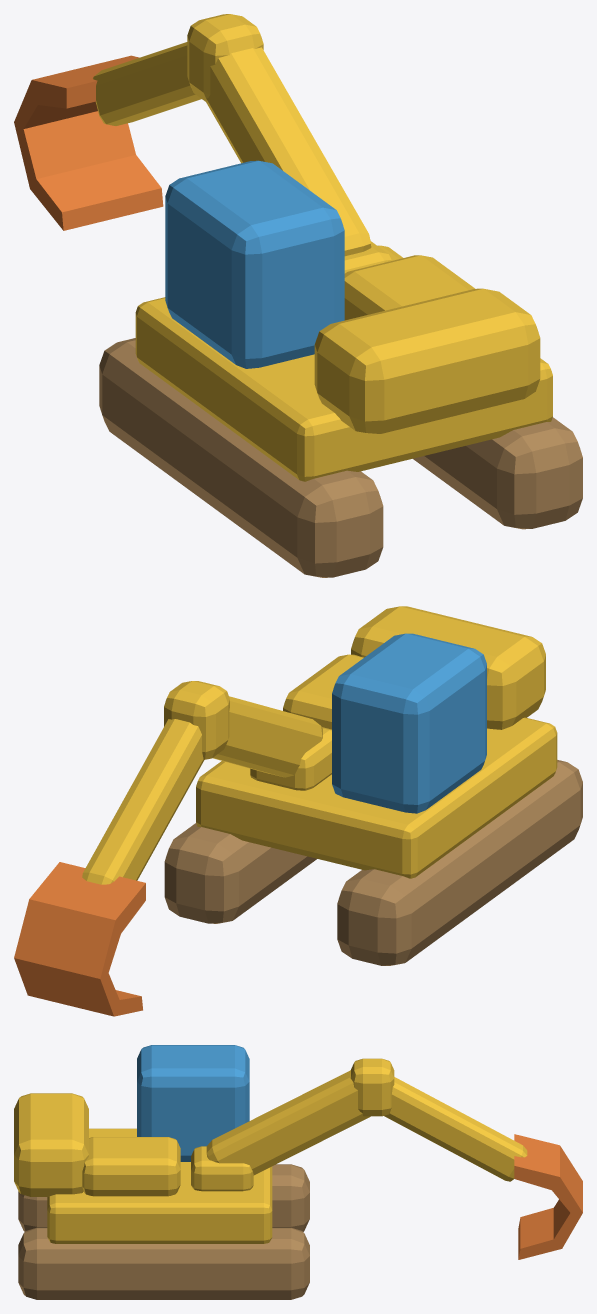
The model's file is toy_excavator.glb.
3 renders of one model, top to bottom at view 1: azimuth 30°, elevation 25°; view 2: azimuth 150°, elevation 25°; view 3: azimuth 270°, elevation 25°, orthographic. The views are drawn at different scales.
Parts seen in each view (by area): view 1: body, arm, bucket; view 2: body, arm, bucket; view 3: body, arm, bucket.
Part boxes in pixels (x1=…): body: x1=99, y1=160, x2=582, y2=577; arm: x1=93, y1=14, x2=371, y2=256; bucket: x1=14, y1=55, x2=163, y2=230; body: x1=164, y1=606, x2=582, y2=965; arm: x1=82, y1=681, x2=322, y2=884; bucket: x1=14, y1=862, x2=145, y2=1016; body: x1=14, y1=1045, x2=309, y2=1299; arm: x1=206, y1=1058, x2=527, y2=1181; bucket: x1=514, y1=1134, x2=582, y2=1259.
Size of the model in its own units: 5.1 by 5.65 by 13.65.
